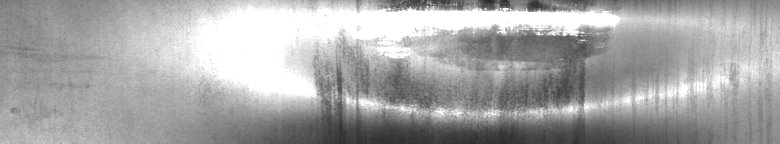ke: (312, 4, 655, 136)
